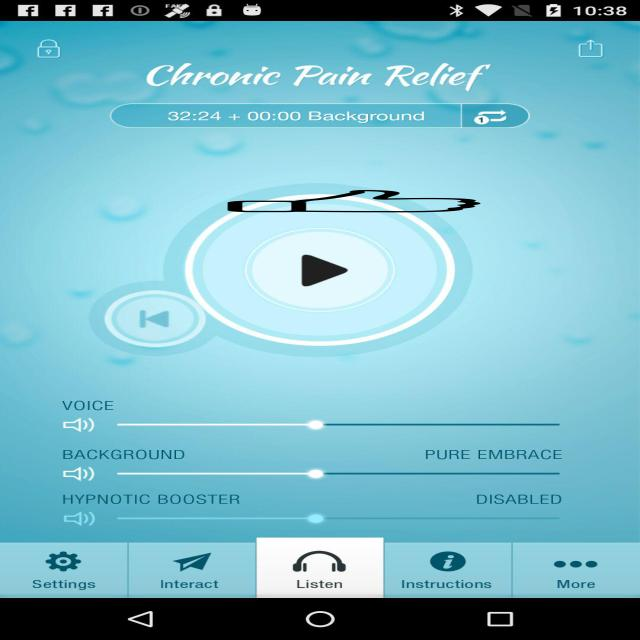privacy zuckering: (224, 190, 484, 212)
